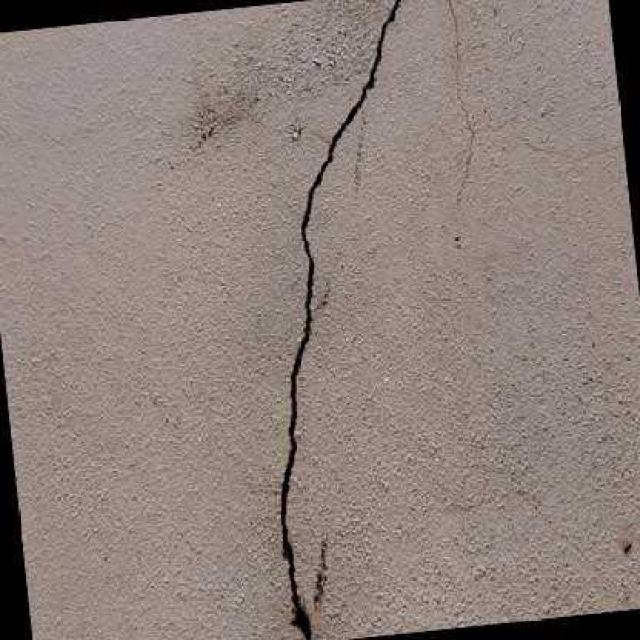D00: (280, 0, 399, 640)
